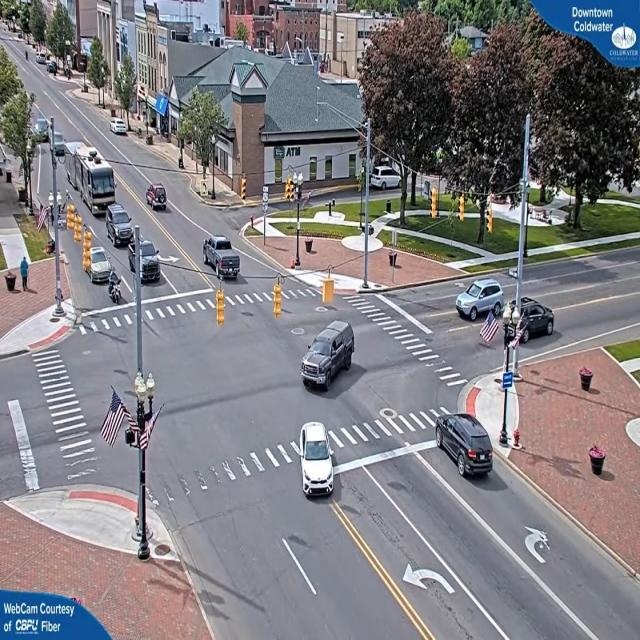car: (436, 414, 494, 480), (301, 325, 354, 394), (297, 420, 337, 498), (456, 278, 504, 322), (518, 296, 558, 341), (204, 237, 242, 280), (108, 208, 136, 246), (138, 241, 162, 283), (86, 246, 113, 283), (147, 185, 170, 212), (53, 134, 66, 157), (111, 120, 129, 136)
motorbike: (107, 269, 124, 306)
truck: (77, 162, 117, 217)
